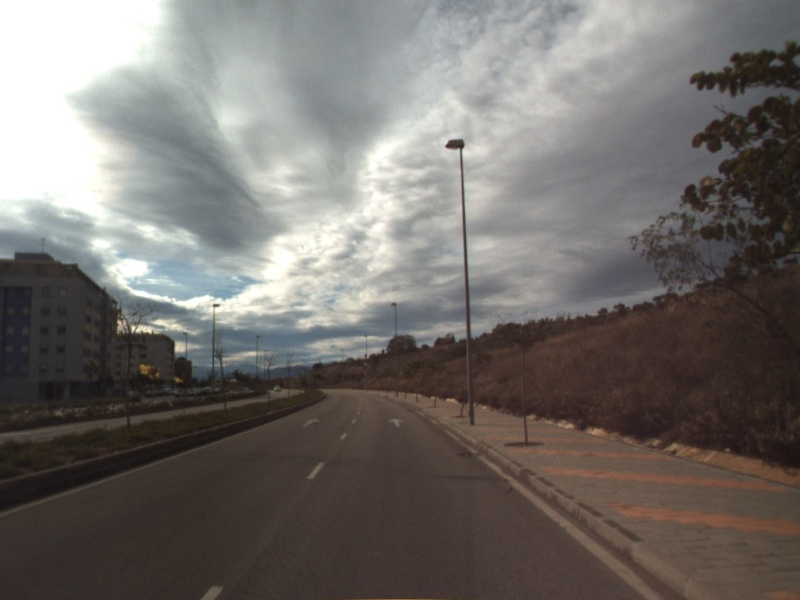STRAIGHT: (301, 416, 322, 429), (387, 416, 406, 428)
